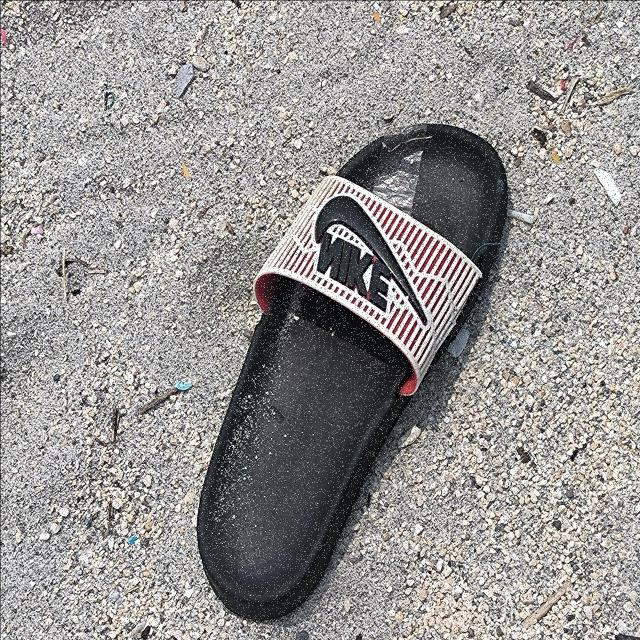rubber_waste: (196, 121, 511, 624)
